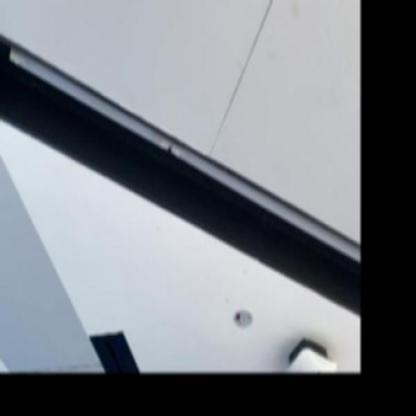light_off: (3, 32, 361, 297)
